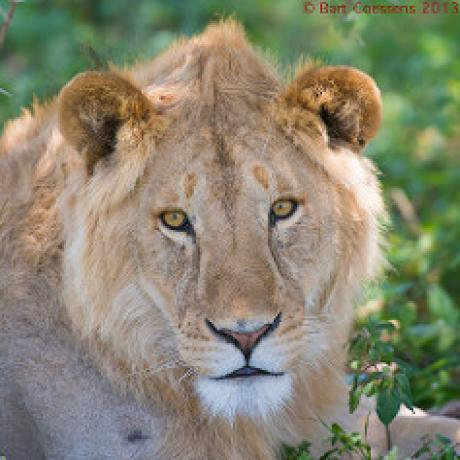Lion: (0, 0, 398, 460)
